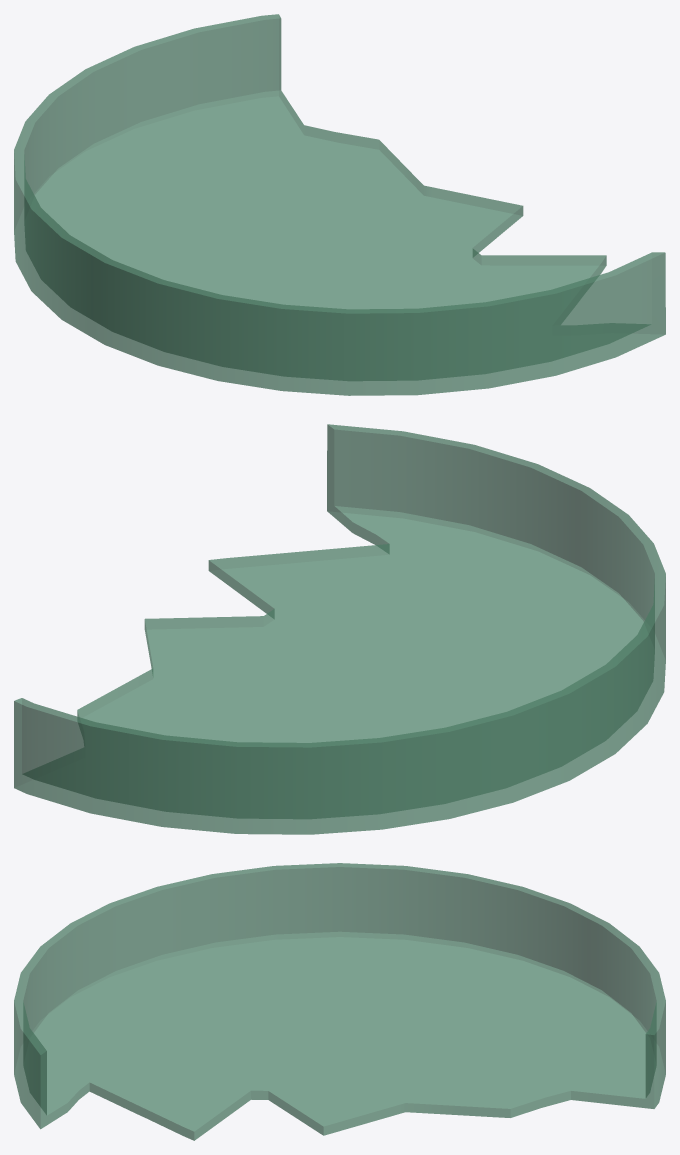
File: PetriDishBaseShattered001.FBX
3 views of the same model, one above another, from view 1: azimuth 30°, elevation 25°; view 2: azimuth 150°, elevation 25°; view 3: azimuth 270°, elevation 25° (orthographic). The views are drawn at different scales.
Parts seen in each view (by area): view 1: Box005; view 2: Box005; view 3: Box005.
Boxes of the visible parts, x1,y1,x2,y2 form: Box005: (14,14,665,395); Box005: (14,424,665,834); Box005: (14,863,665,1140).
Bounding box in the file's own units: 84.62 × 14.31 × 114.
